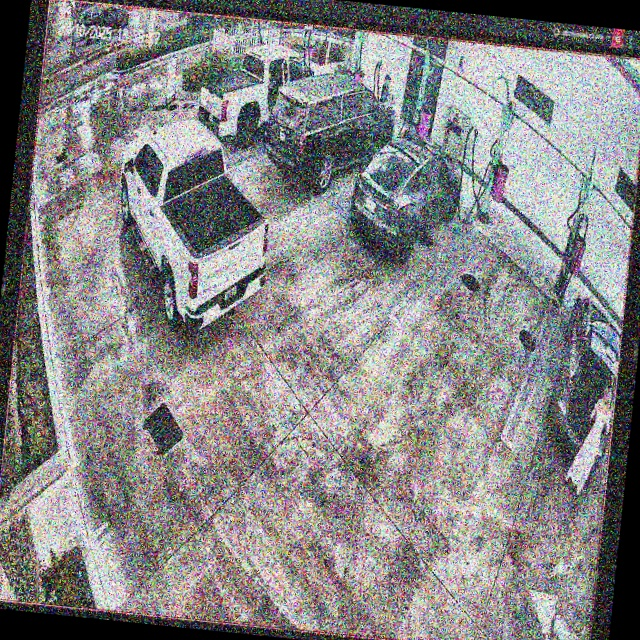Car: (106, 111, 281, 337), (261, 65, 400, 195), (346, 128, 465, 262)
